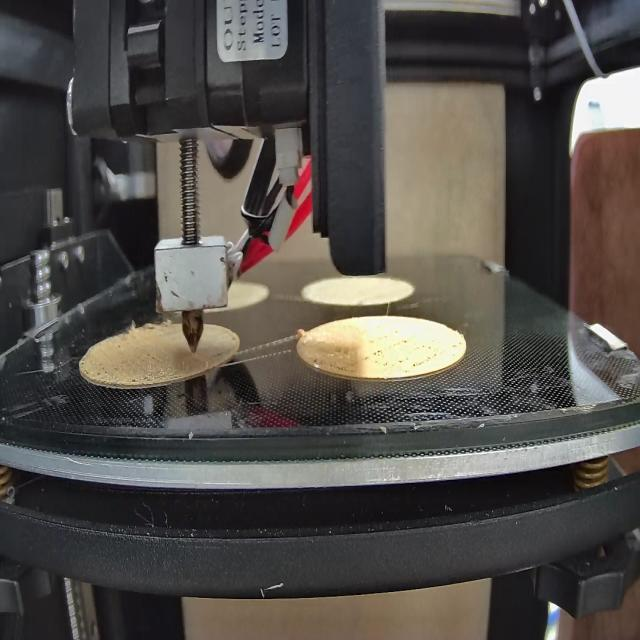under_extrusion: (361, 337, 453, 375), (80, 352, 139, 384), (308, 356, 350, 381), (210, 342, 229, 362)
